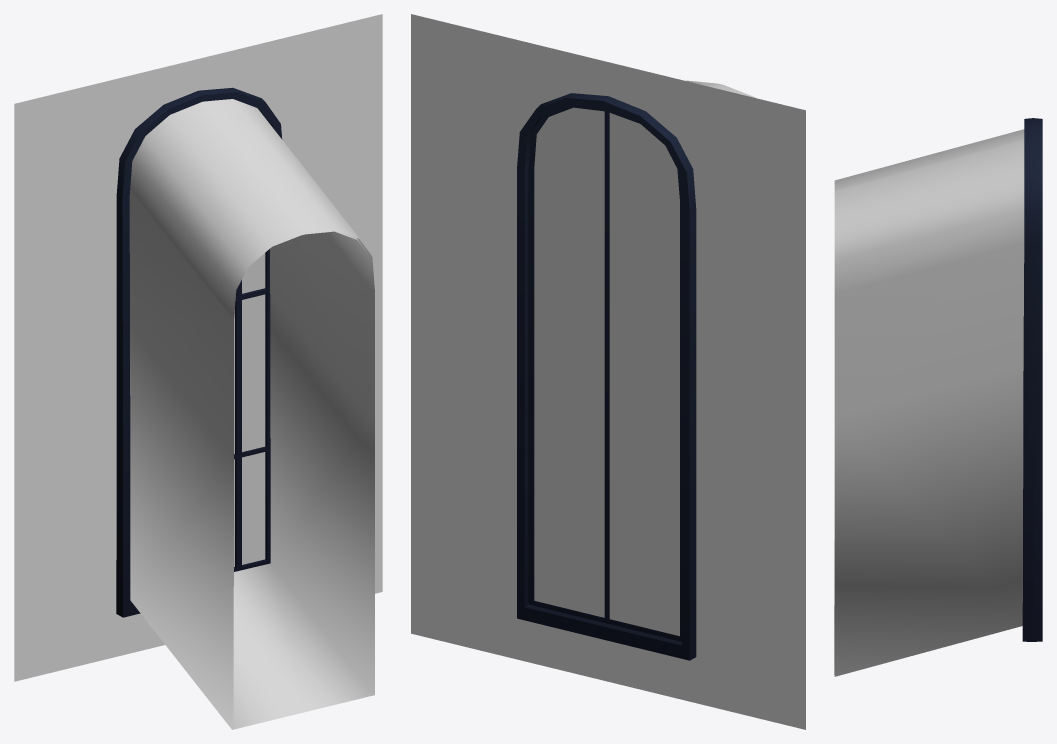
Rendered from GenericShop_Window.fbx.
The picture shows the model from 3 angles, left to right: view 1: azimuth 30°, elevation 25°; view 2: azimuth 150°, elevation 25°; view 3: azimuth 270°, elevation 25°; orthographic projection. The views are drawn at different scales.
Parts seen in each view (by area): view 1: SM_Bld_Casino_Window_02.002, Plane.492, SM_Bld_Casino_Window_02.001, SM_Bld_Casino_Window_Glass.001; view 2: Plane.492, SM_Bld_Casino_Window_Glass.001, SM_Bld_Casino_Window_02.001; view 3: SM_Bld_Casino_Window_02.002, SM_Bld_Casino_Window_02.001.
Boxes of the visible parts, bbox=[...] form: SM_Bld_Casino_Window_02.002: bbox=[129, 99, 374, 729]; Plane.492: bbox=[14, 14, 382, 681]; SM_Bld_Casino_Window_02.001: bbox=[116, 87, 282, 617]; SM_Bld_Casino_Window_Glass.001: bbox=[234, 253, 265, 566]; Plane.492: bbox=[411, 14, 805, 729]; SM_Bld_Casino_Window_Glass.001: bbox=[534, 107, 679, 636]; SM_Bld_Casino_Window_02.001: bbox=[517, 93, 696, 660]; SM_Bld_Casino_Window_02.002: bbox=[834, 129, 1024, 676]; SM_Bld_Casino_Window_02.001: bbox=[1022, 118, 1042, 641].
Size of the model in its own units: 400 by 600 by 208.
